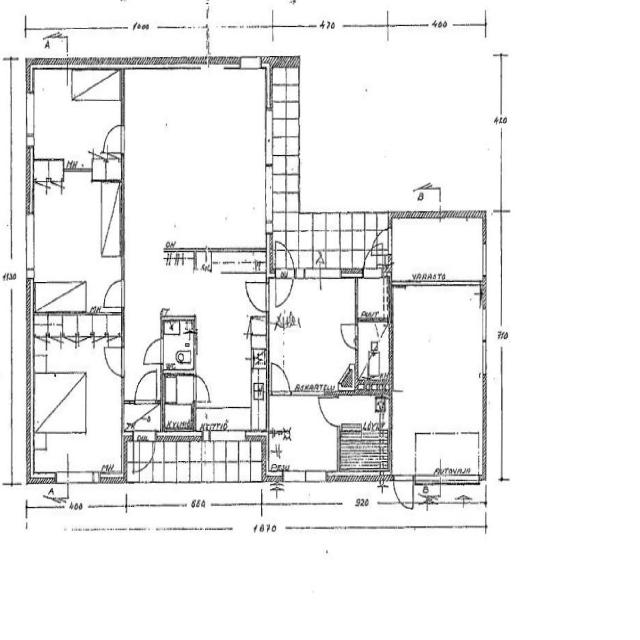door: (271, 252, 296, 312), (134, 367, 160, 406), (316, 390, 341, 430), (131, 437, 156, 477), (244, 277, 269, 314), (101, 276, 126, 312), (102, 342, 126, 379), (101, 121, 125, 157), (268, 361, 292, 397), (392, 474, 415, 511), (142, 335, 165, 367), (338, 320, 359, 351), (192, 373, 212, 405)
window: (23, 208, 39, 278), (55, 467, 99, 488), (23, 86, 38, 146), (477, 303, 490, 365), (477, 329, 490, 385), (284, 465, 314, 486), (236, 52, 264, 74), (479, 239, 490, 280), (303, 468, 328, 484), (341, 496, 358, 508)
zone: (120, 68, 270, 257), (28, 64, 123, 312), (389, 285, 484, 482), (30, 313, 122, 478), (194, 272, 267, 427), (270, 275, 356, 394), (268, 393, 338, 478), (338, 392, 388, 477), (356, 320, 390, 390), (162, 373, 196, 434), (161, 326, 195, 374), (356, 276, 390, 322), (123, 402, 161, 438), (127, 436, 157, 479)
